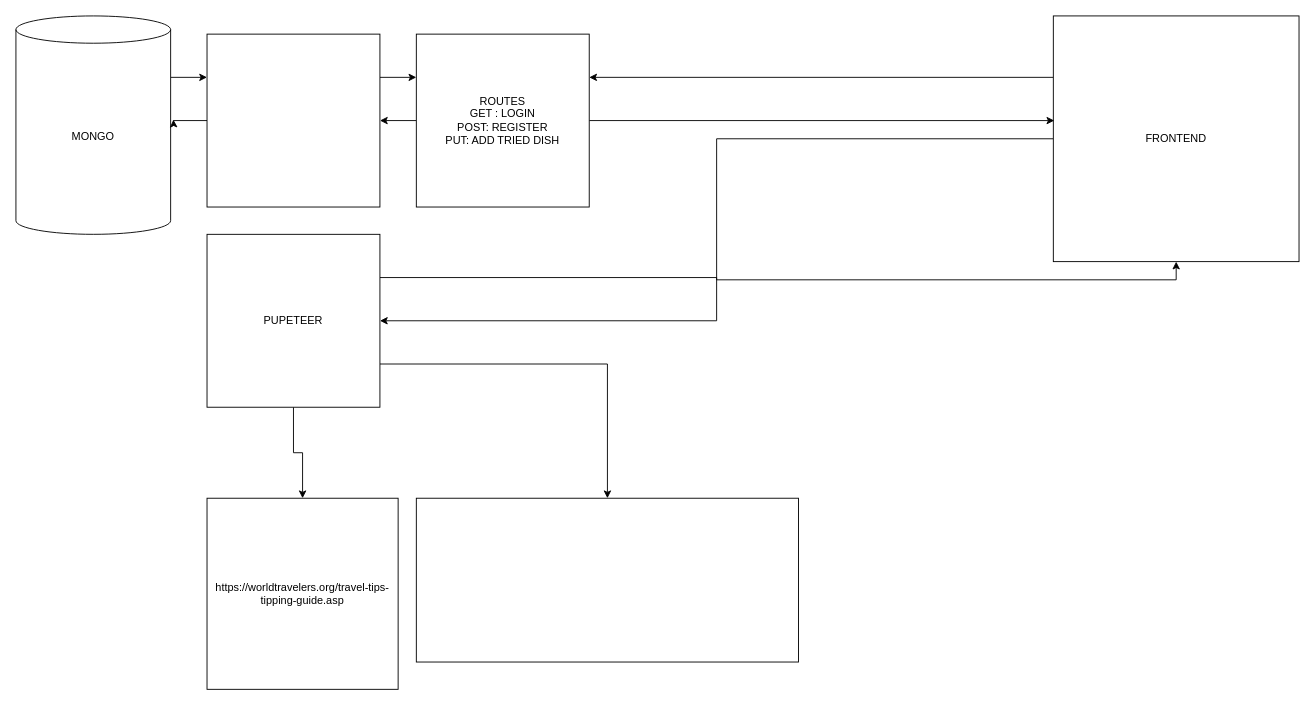
Some shapes in this 1315 by 705 pixel diagram are drawn without their labels. The shapes that lost their labels are listed below. From the top down, each one's centre as x and y in pixels, then its label:
At point (293, 120): "USER /API/V1/users".
At point (607, 579): "https://en.wikipedia.org/wiki/National_dish#By_country".
